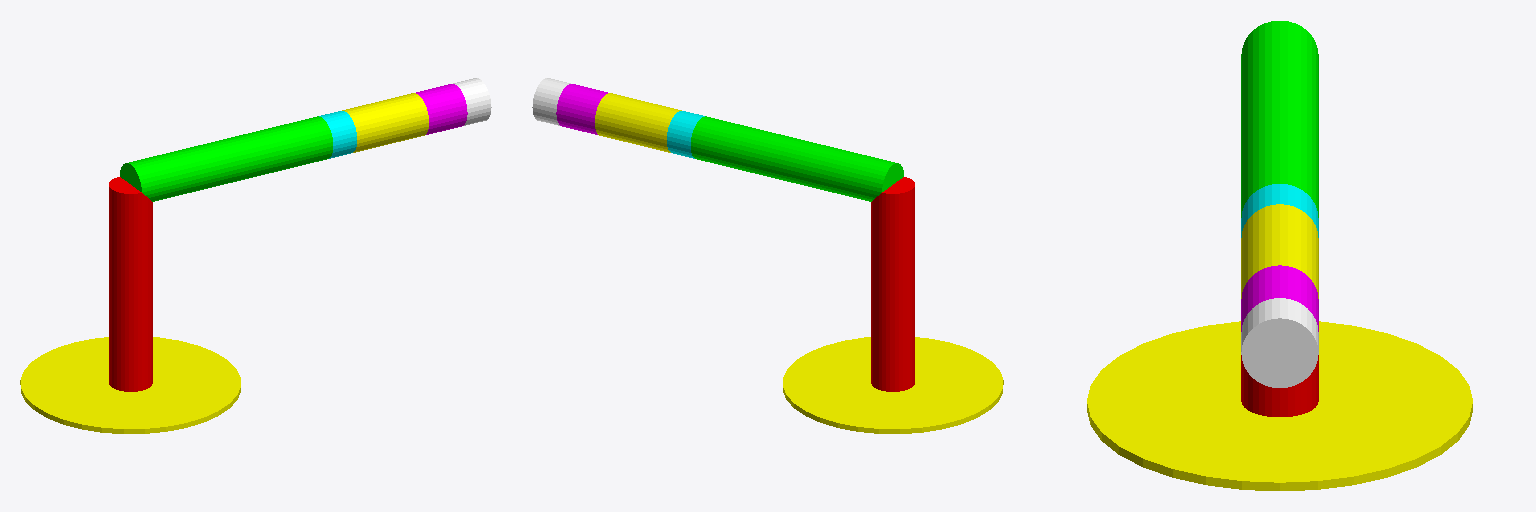
robot.urdf — simple_robot:
<robot name="simple_robot"> <!-- robot name- you decide -->
<!-- sequence : link-joint-link-joint-...-link... -->
<!-- units: meters for distance,rad in case of angles -->
<!-- first link called base_link -->
<link name= "base_link">
	<visual>
		<geometry>
			<cylinder length="0.01" radius="0.2"/>
		</geometry>
		<origin rpy="0 0 0" xyz="0 0 0"/> <!-- rpy: roll pitch yaw -> orientation xyz -> position --> 
		<material name= "base_color">
			<color rgba="1 1 0 1"/> 
		</material>
	</visual>

</link>
<!-- first joint-->
<joint name="joint1" type= "revolute"> <!-- types: revolute and prismatic --> <!--revolucion y longitudinal-->
	<parent link="base_link"/>
	<child link="link1"/>
	<origin xyz ="0 0 0"/>
	<axis xyz="0 0 1"/>
	<limit effort="300" velocity="0.1" lower="-3.14159" upper="3.14159"/>
	<dynamics damping="50" friction="1"/>

</joint>
<!-- link1-->
<link name= "link1">
	<visual>
		<geometry>
			<cylinder length="0.4" radius="0.04"/>
		</geometry>
		<origin rpy="0 0 0" xyz="0 0 0.2"/> <!-- rpy: roll pitch yaw -> orientation xyz -> position --> 
		<material name= "link1_color">
			<color rgba="1 0 0 1"/> 
		</material>
	</visual>

</link>


<!-- second joint-->
<joint name="joint2" type= "revolute"> <!-- types: revolute and prismatic -->
	<parent link="link1"/>
	<child link="link2"/>
	<origin xyz ="0 0 0.4"/> <!-- respecto al anterior joint -->
	<axis xyz="0 -1 0"/>
	<limit effort="300" velocity="0.1" lower="-3.14159" upper="3.14159"/>
	<dynamics damping="50" friction="1"/>

</joint>
<!-- link2-->
<link name= "link2">
	<visual>
		<geometry>
			<cylinder length="0.4" radius="0.04"/>
		</geometry>
		<origin rpy="0 1.5707 0" xyz="0.2 0 0"/> <!-- rpy: roll pitch yaw -> orientation xyz -> position --> 
		<material name= "link2_color">
			<color rgba="0 1 0 1"/> 
		</material>
	</visual>

</link>


<!-- third joint-->
<joint name="joint3" type= "revolute"> <!-- types: revolute and prismatic -->
	<parent link="link2"/>
	<child link="link3"/>
	<origin xyz ="0.4 0 0"/> <!-- respecto al anterior joint -->
	<axis xyz="0 -1 0"/>
	<limit effort="300" velocity="0.1" lower="-3.14159" upper="3.14159"/>
	<dynamics damping="50" friction="1"/>

</joint>

<!-- link3-->
<link name= "link3">
	<visual>
		<geometry>
			<cylinder length="0.05" radius="0.04"/>
		</geometry>
		<origin rpy="0 1.5707 0" xyz="0.025 0 0"/> <!-- rpy: roll pitch yaw -> orientation xyz -> position --> 
		<material name= "link3_color">
			<color rgba="0 1 1 1"/> 
		</material>
	</visual>

</link>

<!-- fourth joint-->
<joint name="joint4" type= "revolute"> <!-- types: revolute and prismatic -->
	<parent link="link3"/>
	<child link="link4"/>
	<origin xyz ="0.05 0 0"/> <!-- respecto al anterior joint -->
	<axis xyz="-1 0 0"/>
	<limit effort="300" velocity="0.1" lower="-3.14159" upper="3.14159"/>
	<dynamics damping="50" friction="1"/>

</joint>

<!-- link4-->
<link name= "link4">
	<visual>
		<geometry>
			<cylinder length="0.15" radius="0.04"/>
		</geometry>
		<origin rpy="0 1.5707 0" xyz="0.075 0 0"/> <!-- rpy: roll pitch yaw -> orientation xyz -> position --> 
		<material name= "link4_color">
			<color rgba="1 1 0 1"/> 
		</material>
	</visual>

</link>

<!-- fifth joint-->
<joint name="joint5" type= "revolute"> <!-- types: revolute and prismatic -->
	<parent link="link4"/>
	<child link="link5"/>
	<origin xyz ="0.15 0 0"/> <!-- respecto al anterior joint -->
	<axis xyz="0 -1 0"/>
	<limit effort="300" velocity="0.1" lower="-3.14159" upper="3.14159"/>
	<dynamics damping="50" friction="1"/>

</joint>

<!-- link5-->
<link name= "link5">
	<visual>
		<geometry>
			<cylinder length="0.08" radius="0.04"/>
		</geometry>
		<origin rpy="0 1.5707 0" xyz="0.04 0 0"/> <!-- rpy: roll pitch yaw -> orientation xyz -> position --> 
		<material name= "link5_color">
			<color rgba="1 0 1 1"/> 
		</material>
	</visual>

</link>

<!-- sixth joint-->
<joint name="joint6" type= "fixed"> <!-- types: revolute and prismatic -->
	<parent link="link5"/>
	<child link="link6"/>
	<origin xyz ="0.08 0 0"/> <!-- respecto al anterior joint -->
	<axis xyz="-1 0 0"/>
	<limit effort="300" velocity="0.1" lower="-3.14159" upper="3.14159"/>
	<dynamics damping="50" friction="1"/>

</joint>

<!-- link6-->
<link name= "link6">
	<visual>
		<geometry>
			<cylinder length="0.05" radius="0.04"/>
		</geometry>
		<origin rpy="0 1.5707 0" xyz="0.025 0 0"/> <!-- rpy: roll pitch yaw -> orientation xyz -> position --> 
		<material name= "link6_color">
			<color rgba="1 1 1 1"/> 
		</material>
	</visual>

</link>




</robot>

--- What the picture shows (computed from the rendered views, not written in the file) ---
The picture shows the robot from 3 angles, left to right: view 1: azimuth 30°, elevation 25°; view 2: azimuth 150°, elevation 25°; view 3: azimuth 270°, elevation 25°; orthographic projection.
Robot: simple_robot — 7 links, 6 joints (5 revolute, 1 fixed); root link base_link; default pose: every joint at zero.
Visible links, largest first — view 1: base_link, link1, link2, link4, link5, link6, link3; view 2: base_link, link1, link2, link4, link5, link6, link3; view 3: base_link, link2, link6, link4, link1, link5, link3.
Boxes of the visible links, x1,y1,x2,y2 form: base_link: (20,337,240,433); link1: (109,177,152,391); link2: (120,116,332,201); link4: (342,93,428,152); link5: (416,84,467,134); link6: (453,78,491,125); link3: (319,111,356,158); base_link: (783,337,1003,433); link1: (871,177,914,391); link2: (691,116,903,201); link4: (595,93,681,152); link5: (556,84,607,134); link6: (532,78,570,125); link3: (667,111,704,158); base_link: (1087,321,1472,490); link2: (1241,21,1318,217); link6: (1241,298,1318,387); link4: (1241,204,1318,298); link1: (1241,355,1318,416); link5: (1241,265,1318,331); link3: (1241,184,1318,237).
Size in the robot's own frame: 0.93 by 0.4 by 0.445 metres.
Geometry: primitives only (box / cylinder / sphere), no mesh files.